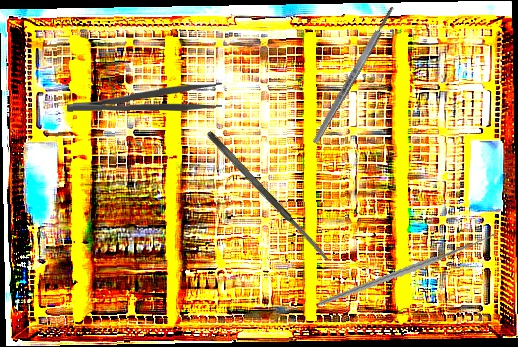Dressing Forceps: (66, 81, 223, 116)
Hook Surgical: (317, 197, 498, 333)
Scalpel Handle: (310, 5, 397, 145)
Spatula Surgical: (204, 129, 332, 264)
